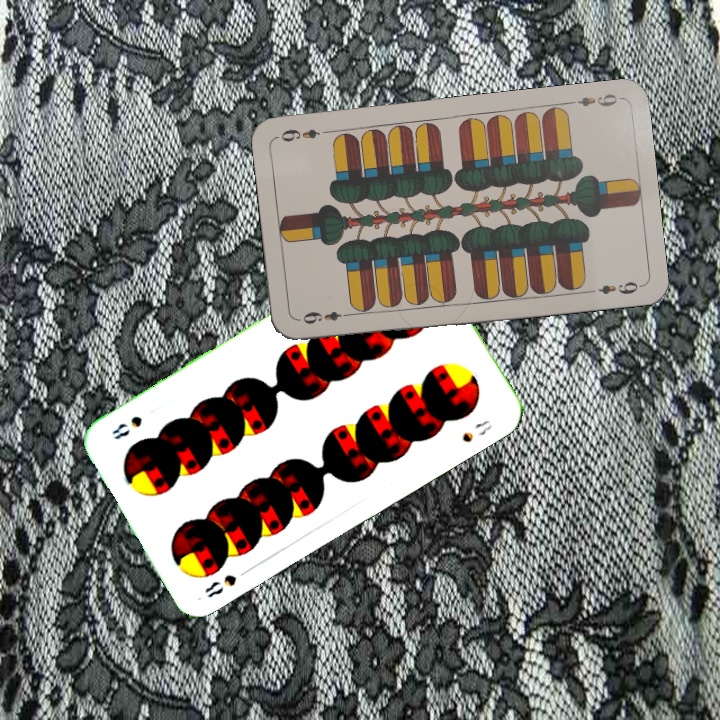E9: (563, 90, 620, 110), (299, 307, 354, 327)
S8: (200, 564, 253, 601)
